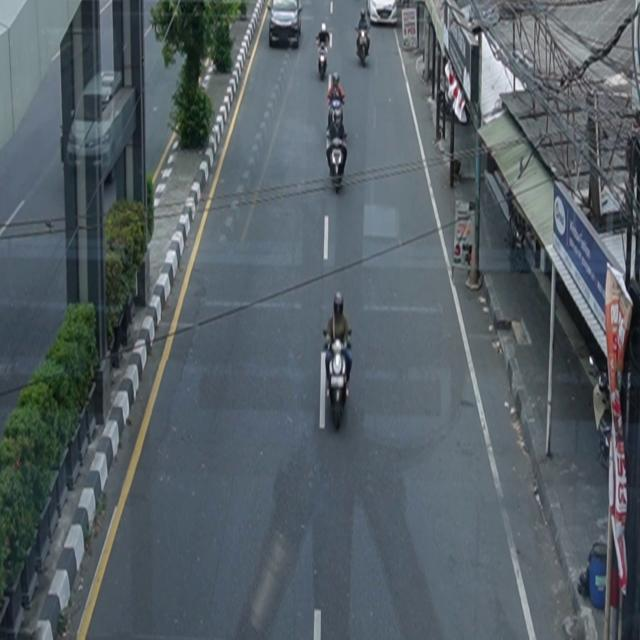car: (269, 1, 303, 49), (367, 1, 398, 26)
